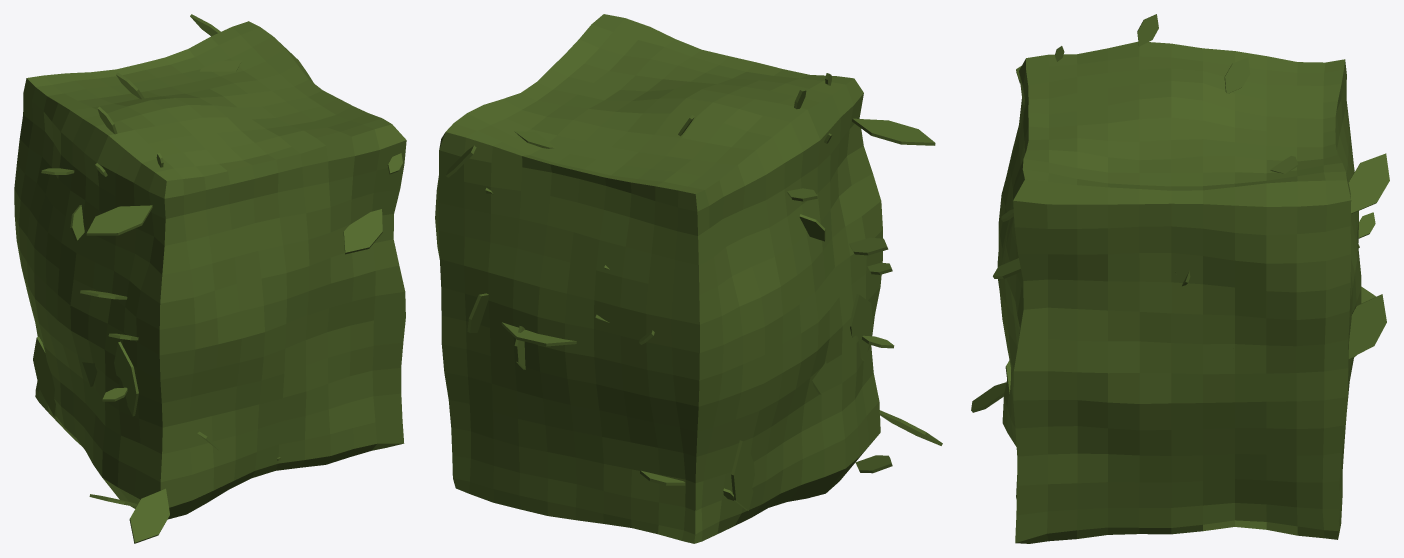
3 views of the same model, side by side, from view 1: azimuth 30°, elevation 25°; view 2: azimuth 150°, elevation 25°; view 3: azimuth 270°, elevation 25° (orthographic). The views are drawn at different scales.
Visible parts, largest first — view 1: Sphere.002; view 2: Sphere.002; view 3: Sphere.002.
Boxes of the visible parts, box(x1,y1,x2,y2) form: Sphere.002: box(14, 14, 406, 543); Sphere.002: box(435, 14, 942, 543); Sphere.002: box(971, 14, 1389, 543).
Bounding box in the file's own units: 261 × 291 × 259.
